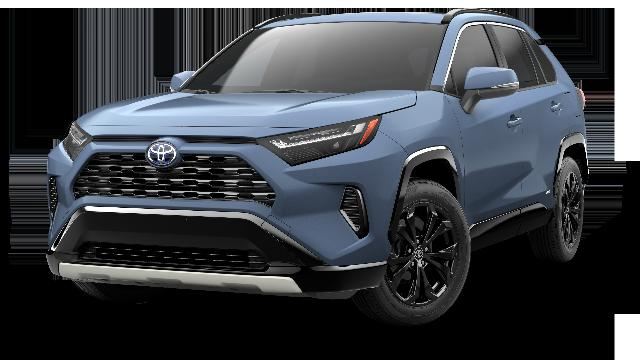toyota: (45, 6, 591, 324)
